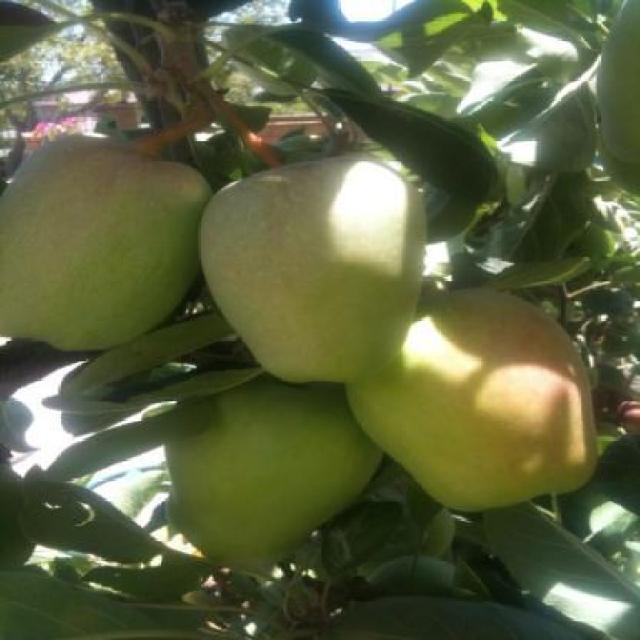Apple: (342, 288, 598, 517), (203, 158, 440, 376), (0, 130, 211, 356), (154, 374, 386, 564)
